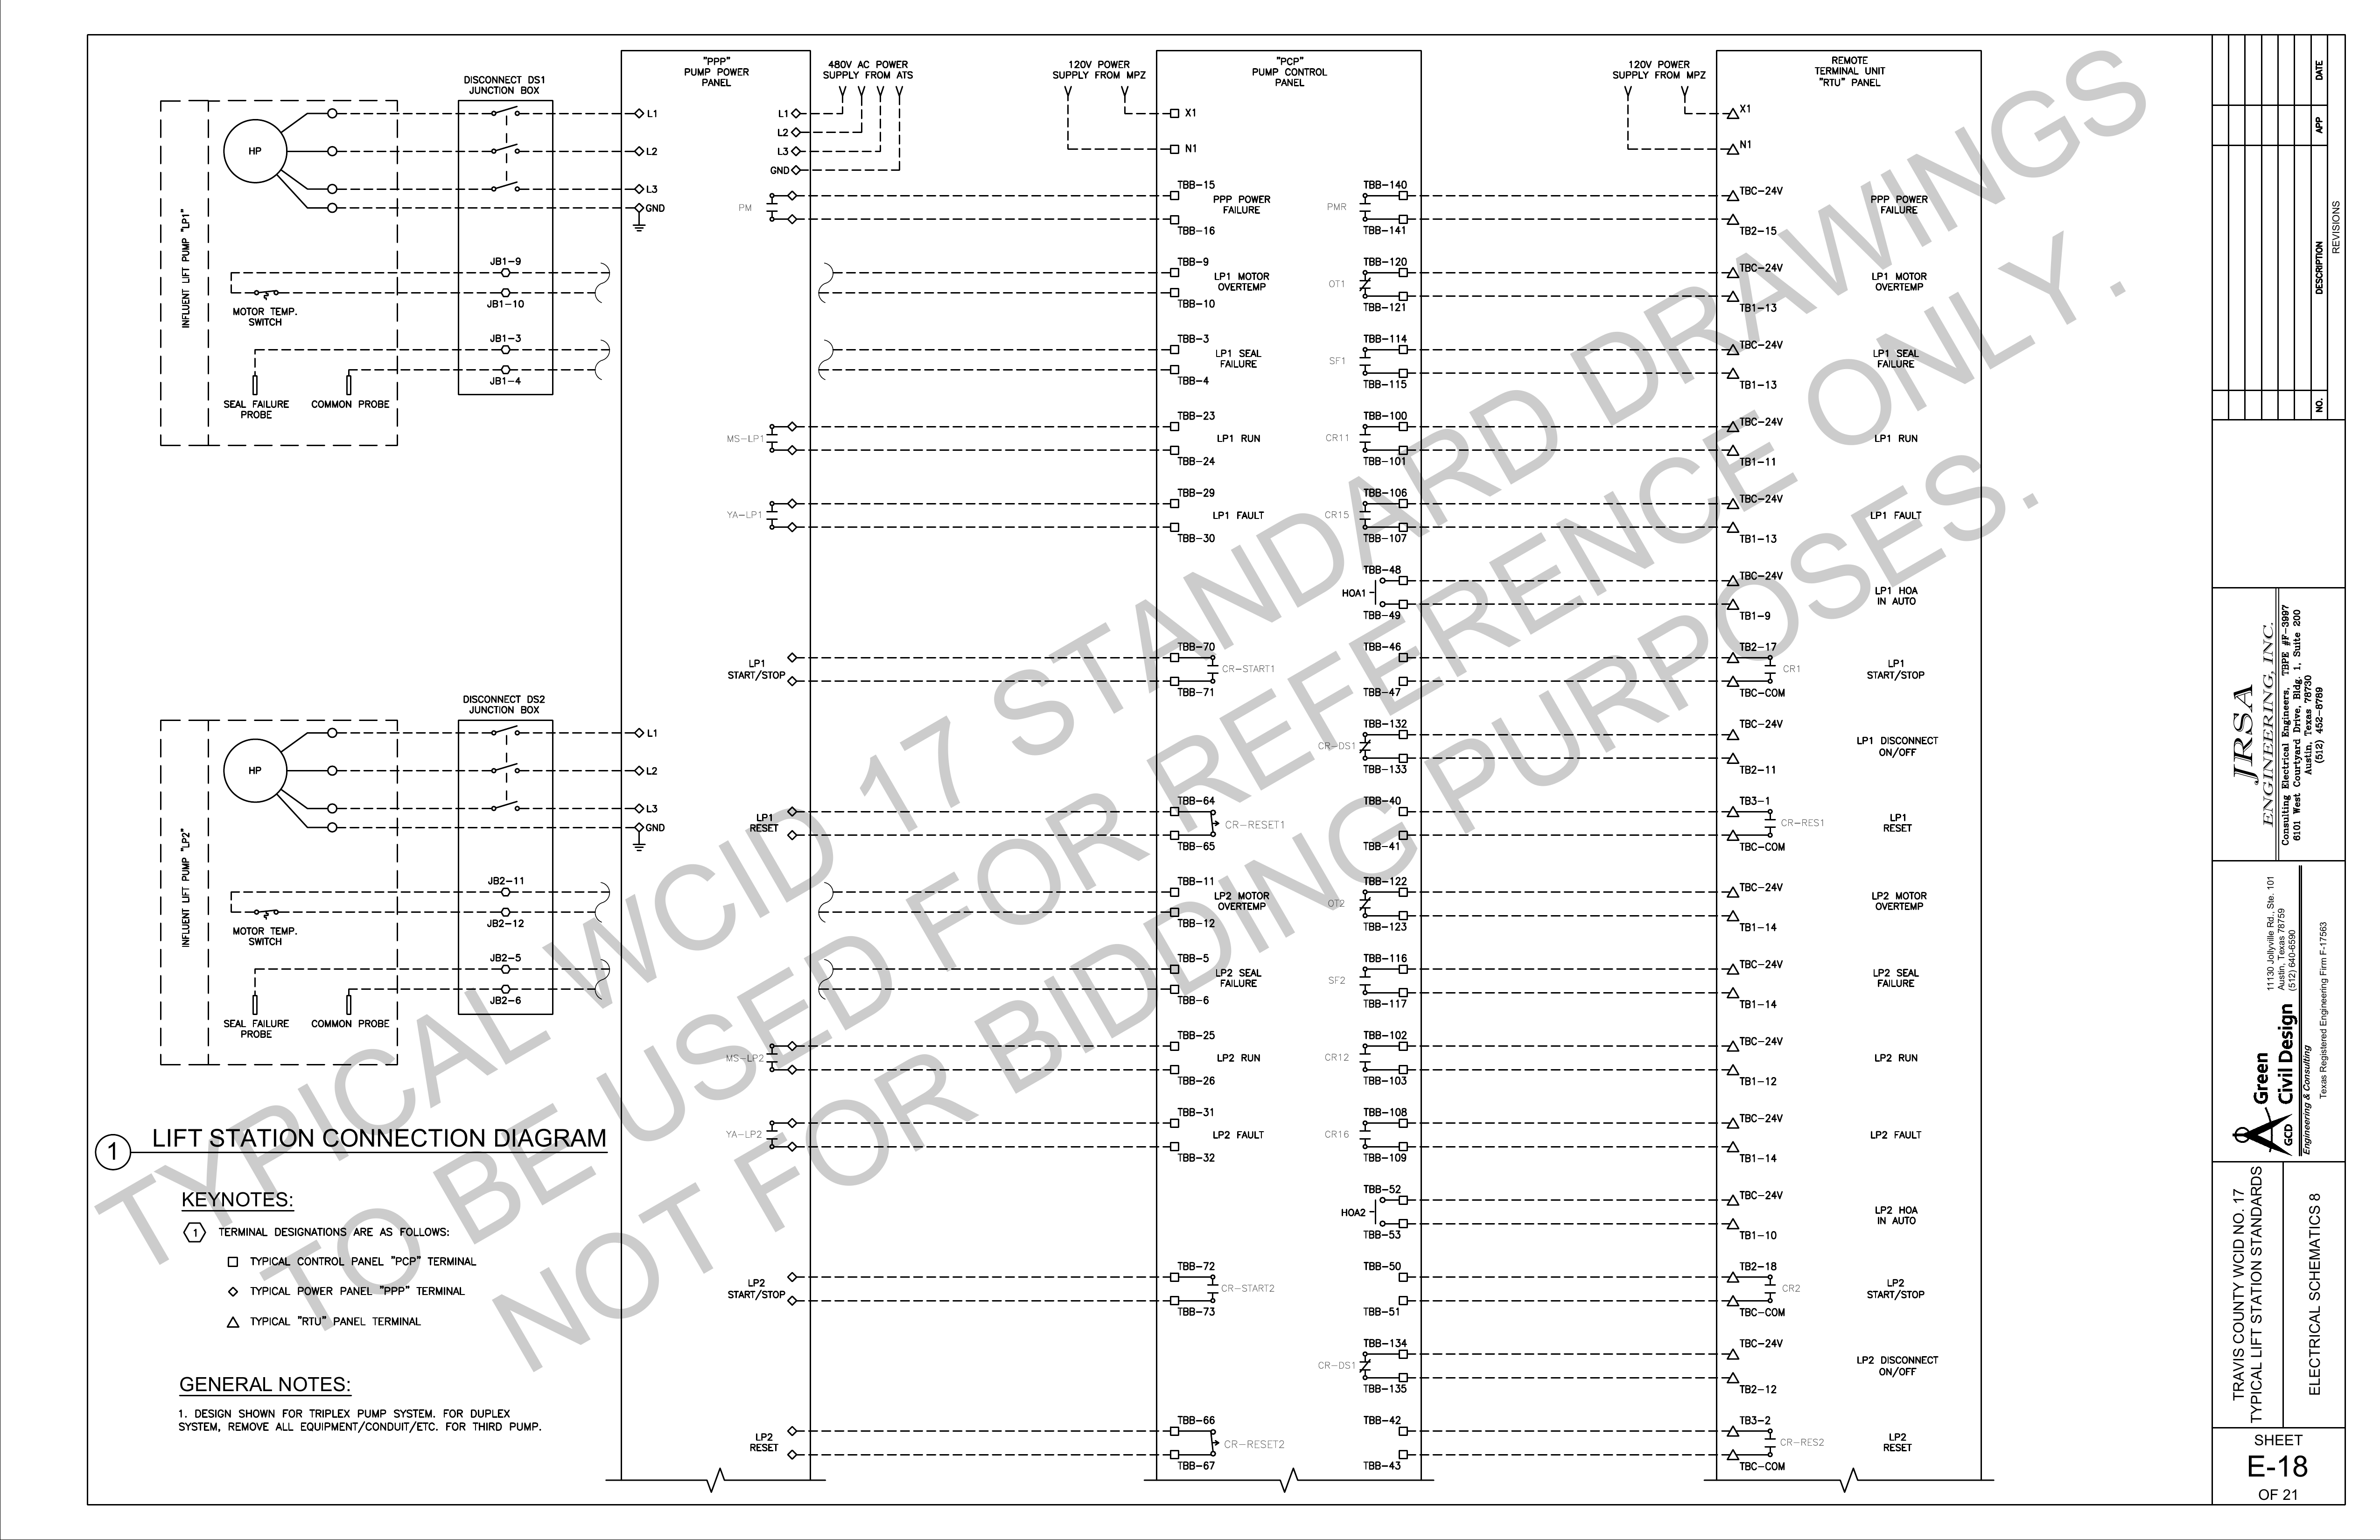ground: (626, 214, 654, 237)
switch: (483, 94, 534, 132), (478, 138, 537, 168), (483, 175, 533, 206), (246, 279, 285, 305)
